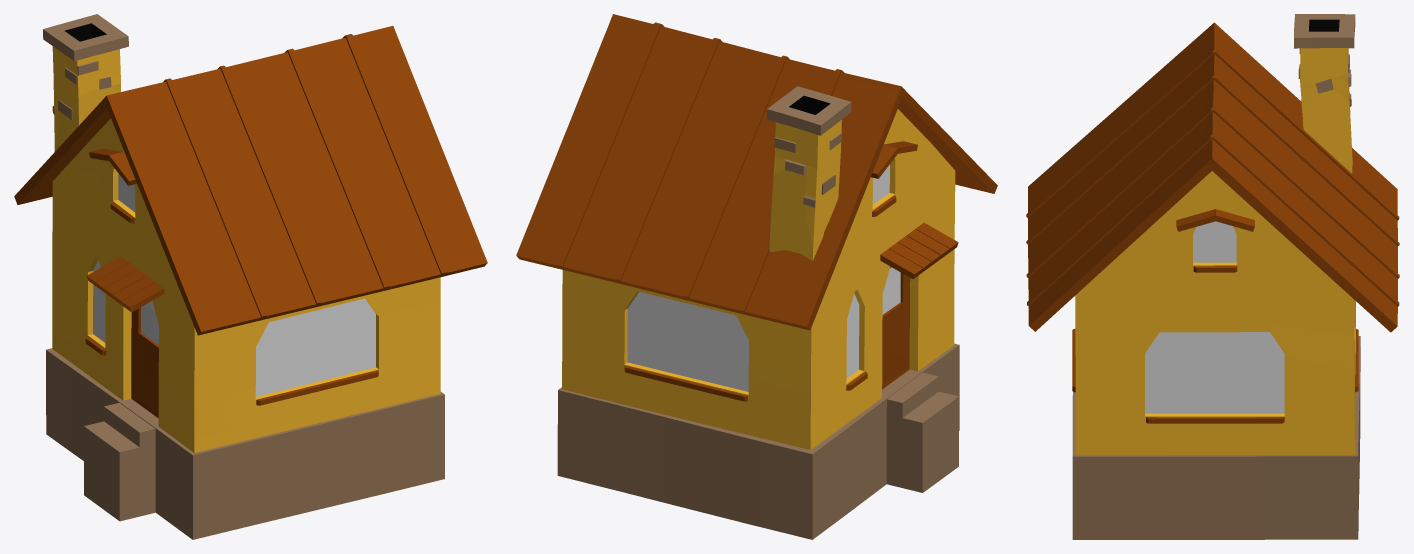
File: hut2v2test.fbx
3 views of the same model, side by side, from view 1: azimuth 30°, elevation 25°; view 2: azimuth 150°, elevation 25°; view 3: azimuth 270°, elevation 25° (orthographic). The views are drawn at different scales.
Parts seen in each view (by area): view 1: bottom; view 2: bottom; view 3: bottom.
Part boxes in pixels (x1,y1,x2,y2): bottom: (14,14,487,539); bottom: (516,14,997,539); bottom: (1026,14,1399,539).
Bounding box in the file's own units: 1229 × 1563 × 1307.
